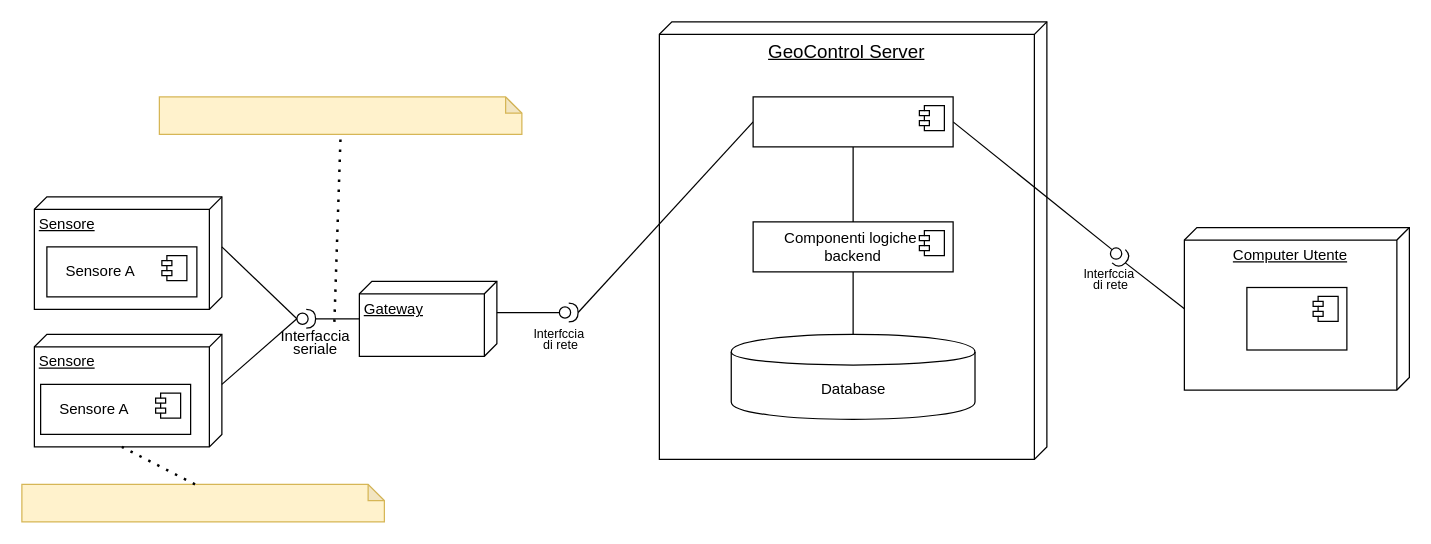
Image size: 1431x544. Some labels were removed from this diagram. Each missing label, with the centre of its shape:
"API HTTP" goes at (852,121).
"GUI" goes at (1296,318).
"Sensori e gateway fanno parte di una rete" goes at (340,115).
"Un sensore è connesso e comunica ad un solo gateway" goes at (202,502).
